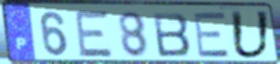6: (39, 11, 70, 58)
8: (117, 10, 150, 60)
B: (151, 11, 193, 59)
E: (74, 9, 115, 59), (191, 11, 233, 59)
U: (229, 9, 273, 61)
